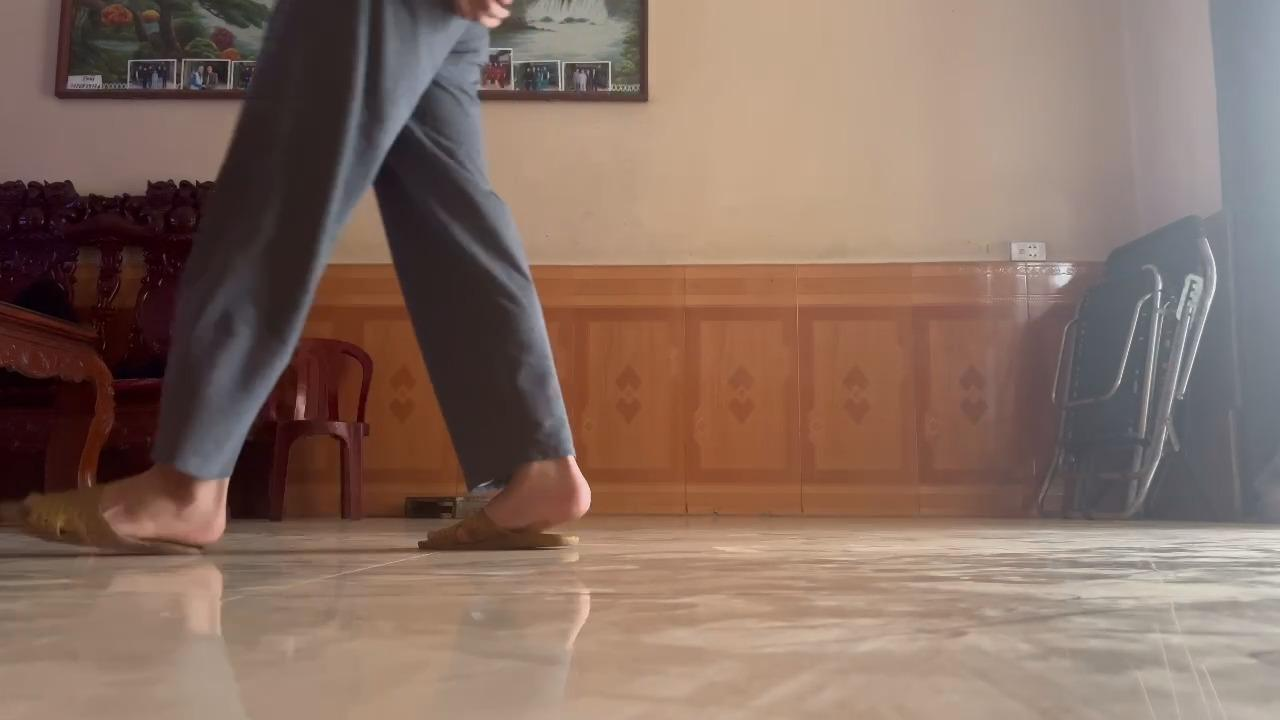no-boot: (0, 476, 243, 567), (408, 470, 602, 564)
